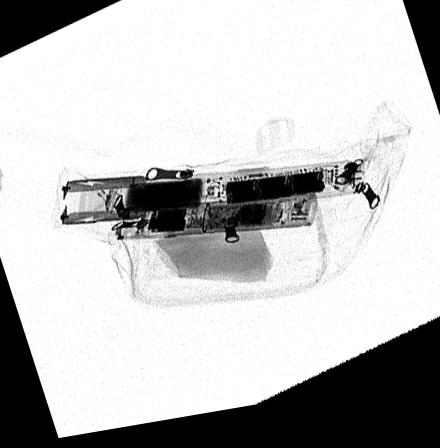Baton: (58, 171, 364, 227), (114, 204, 319, 244)
